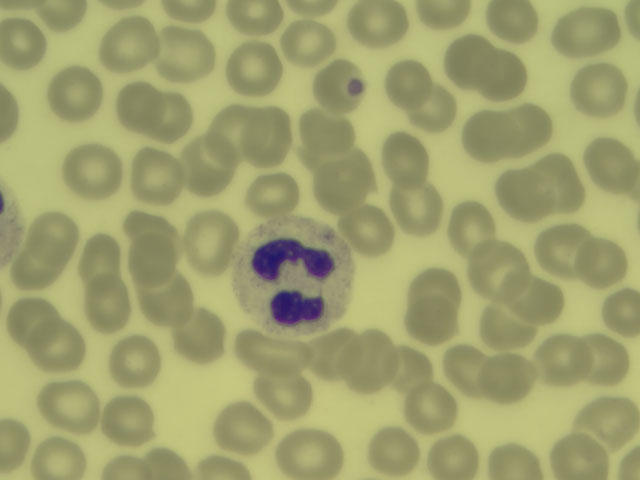Platelets: (552, 7, 622, 53), (235, 332, 305, 376), (186, 216, 238, 271), (281, 432, 340, 478), (350, 2, 406, 48), (496, 168, 545, 220), (553, 433, 607, 480), (506, 279, 562, 324), (583, 399, 640, 443), (540, 227, 590, 277), (42, 383, 98, 427), (398, 180, 441, 237), (67, 149, 116, 199), (575, 65, 624, 115), (535, 157, 582, 209), (176, 315, 225, 364), (476, 244, 525, 293), (132, 151, 183, 198), (343, 205, 390, 256), (351, 332, 393, 389), (232, 45, 280, 94), (409, 384, 456, 434), (160, 30, 206, 81), (26, 329, 83, 370), (256, 370, 310, 413), (141, 278, 195, 321), (107, 398, 155, 446), (579, 237, 626, 286), (446, 35, 488, 89), (251, 107, 291, 163), (315, 160, 364, 205), (380, 138, 430, 182), (486, 1, 541, 41), (208, 112, 261, 153), (484, 45, 525, 98), (389, 348, 436, 394), (218, 404, 262, 453), (185, 140, 229, 189), (310, 330, 357, 375), (479, 308, 533, 347), (284, 21, 335, 62), (102, 20, 149, 64), (367, 428, 416, 470), (303, 112, 354, 152), (248, 173, 299, 213), (484, 360, 531, 403), (404, 302, 457, 340), (584, 142, 630, 185), (429, 436, 477, 477), (84, 287, 133, 327), (540, 339, 585, 382), (51, 73, 97, 115), (389, 60, 430, 106), (467, 116, 513, 157), (1, 20, 41, 67), (450, 209, 492, 253), (9, 300, 55, 340), (37, 443, 86, 480), (116, 86, 159, 126), (114, 343, 158, 382), (33, 215, 78, 253), (603, 290, 640, 336), (126, 246, 173, 282), (585, 334, 620, 382), (409, 272, 458, 305), (492, 445, 538, 480), (450, 350, 488, 391), (230, 1, 278, 32), (2, 424, 31, 474), (418, 89, 454, 129), (513, 107, 547, 148), (420, 2, 471, 29), (18, 252, 59, 285), (154, 94, 189, 132), (86, 240, 118, 278), (42, 1, 87, 28), (126, 218, 171, 243), (144, 450, 184, 477), (163, 1, 215, 21), (202, 453, 240, 480), (103, 459, 147, 480), (1, 88, 17, 144), (290, 1, 336, 17)
RBC: (241, 227, 350, 330)
WBC: (348, 73, 365, 96)
